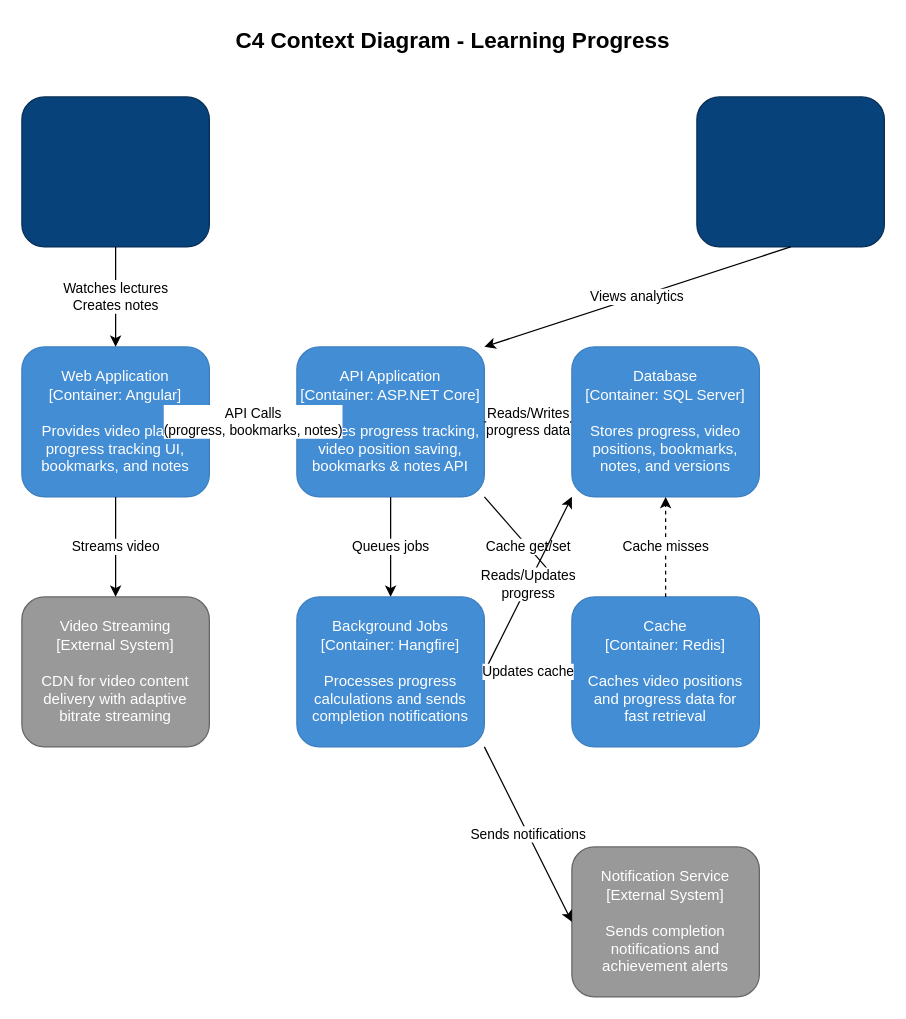
Some shapes in this 906 by 1019 pixel diagram are drawn without their labels. The shapes that lost their labels are listed below. From the top down, each one's box as (x1, y1, x2, y2) in pixels, then its label:
(21, 96, 209, 247): Learner [Person] A user enrolled in courses who watches lectures and takes notes
(696, 96, 884, 247): Instructor [Person] Course creator who views student progress analytics
